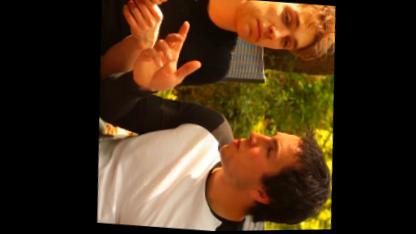knife: (151, 0, 221, 10)
